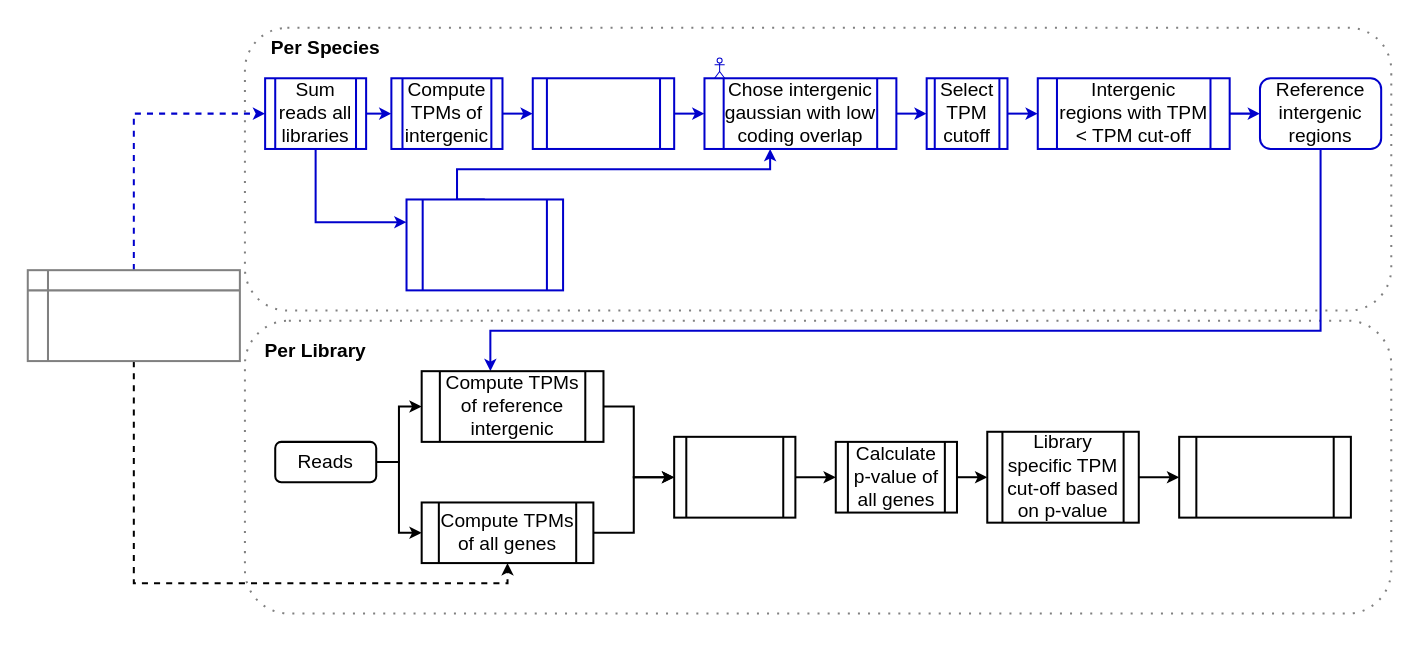
The diagram is 1428 pixels wide and 650 high, and some of its shapes have lost their labels. Here are the shapes that lost their labels. From the top down, the centre of each, then its label:
At point (603, 113): "Deconvolute intergenic TPMs".
At point (484, 244): "Compute TPMs of protein coding genes".
At point (133, 315): "Annotated reference genome fasta and gtf".
At point (734, 476): "Calculate z-score of all genes".
At point (1264, 476): "Calls present/absent per gene".
